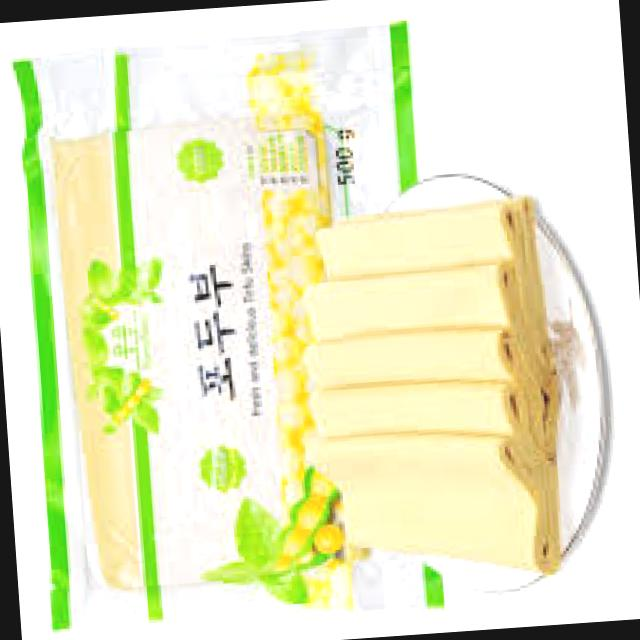tofu: (296, 418, 552, 584)
